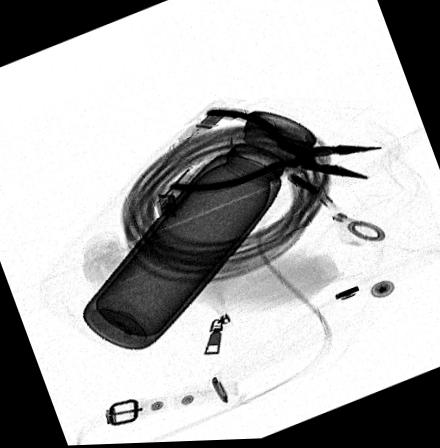Pliers: (166, 108, 381, 196)
